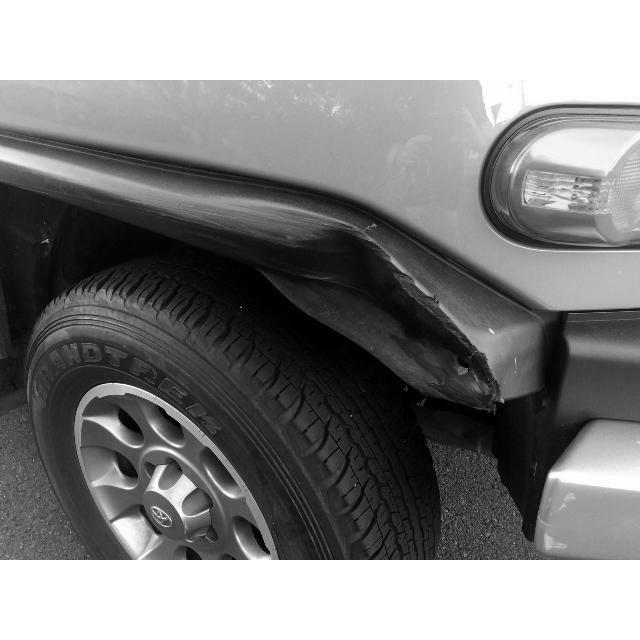fender-dent: (71, 165, 589, 401)
